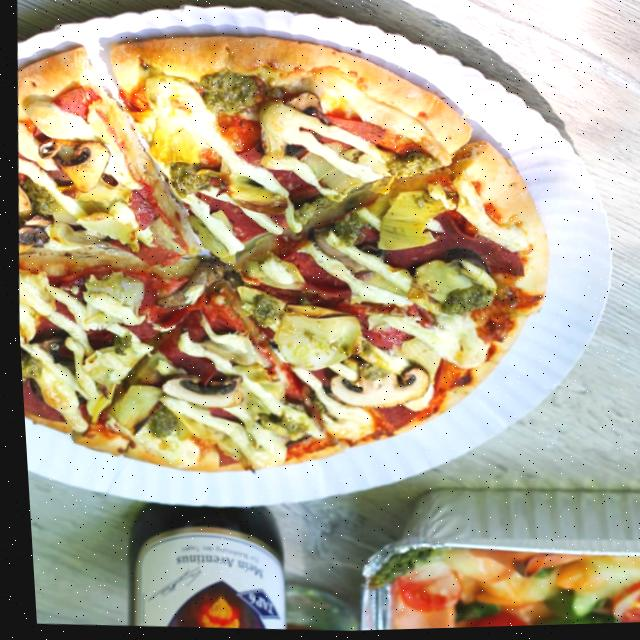mushrooms: (322, 363, 427, 416), (254, 89, 324, 160), (33, 137, 112, 197), (309, 230, 380, 279), (153, 373, 242, 411), (13, 222, 50, 261)
pizza: (1, 13, 571, 501)
